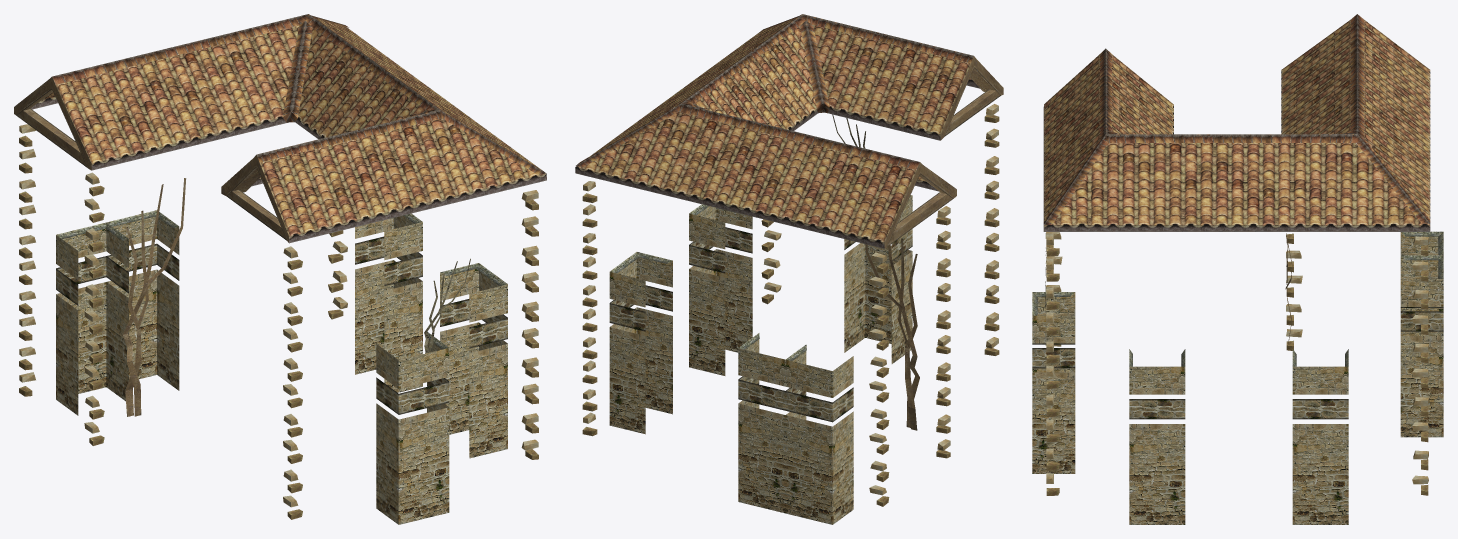
Rendered from hele_house_c.dae.
3 views of the same model, side by side, from view 1: azimuth 30°, elevation 25°; view 2: azimuth 150°, elevation 25°; view 3: azimuth 270°, elevation 25° (orthographic). The views are drawn at different scales.
Visible parts, largest first — view 1: hele_house_c; view 2: hele_house_c; view 3: hele_house_c.
Part boxes in pixels (x1,y1,x2,y2): hele_house_c: (14,14,546,524); hele_house_c: (575,14,1003,524); hele_house_c: (1032,14,1443,524).
Size of the model in its own units: 13.73 by 15.11 by 14.32.
